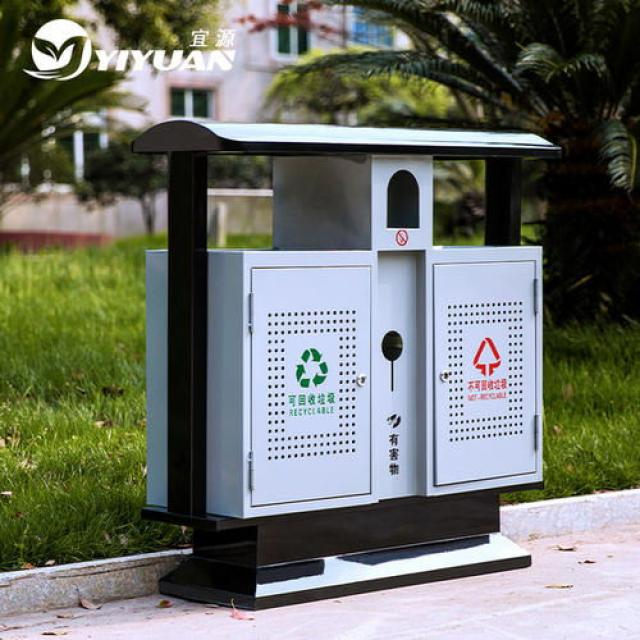garbage_bin: (128, 116, 559, 610)
